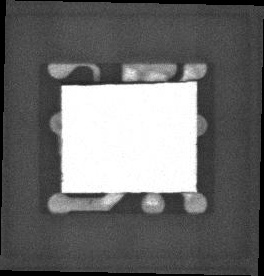DIE_BROKEN: (61, 79, 156, 88)
